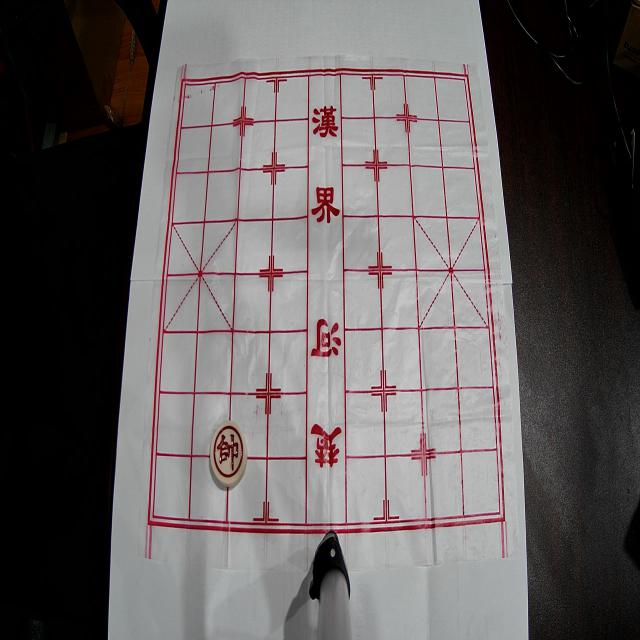red-general: (210, 421, 248, 487)
